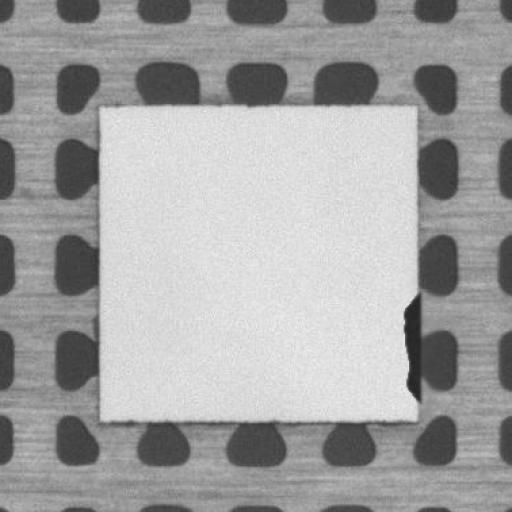DIE_BROKEN: (398, 290, 423, 404)
